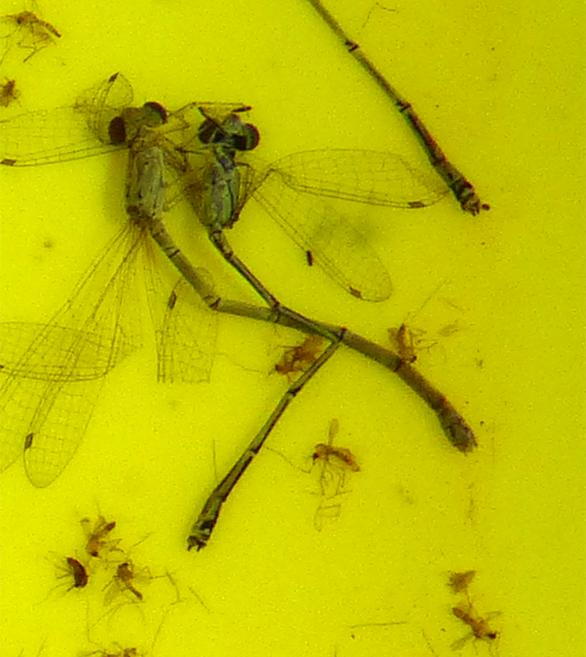Nematocera: (309, 423, 361, 478), (263, 337, 321, 378), (448, 602, 501, 644), (8, 9, 62, 48), (387, 318, 424, 361), (83, 518, 118, 560), (111, 559, 145, 601), (63, 551, 88, 590)
Odonata: (100, 100, 486, 459), (182, 110, 342, 557)
